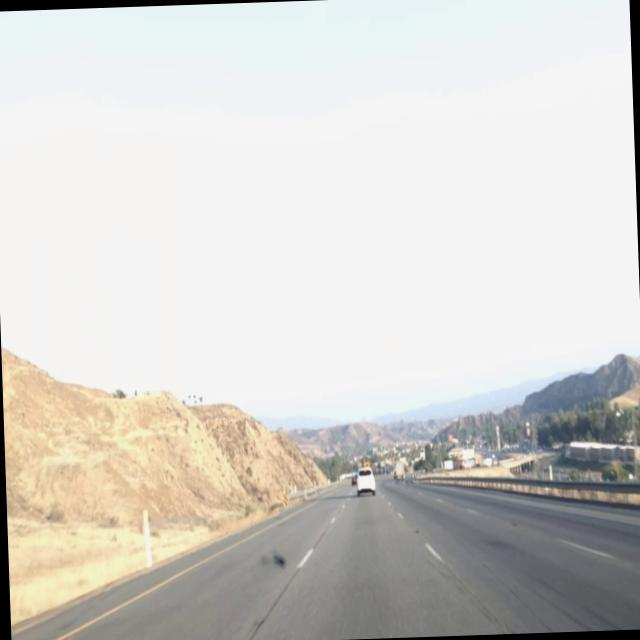Vehicle: (354, 448, 379, 500)
